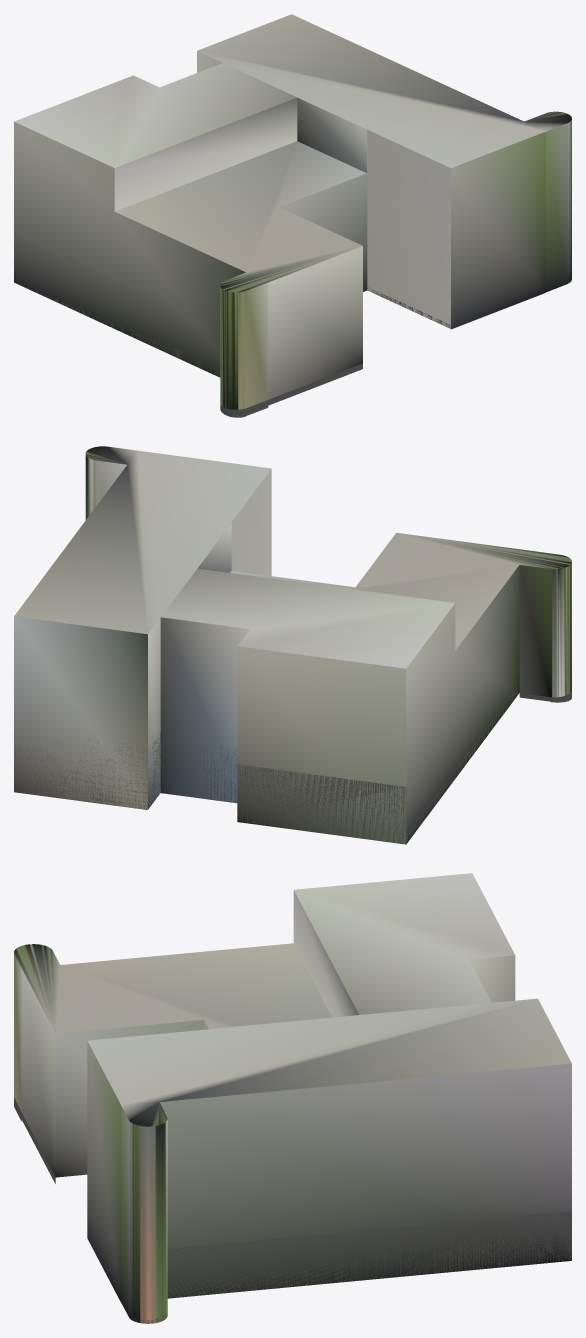
3 views of the same model, one above another, from view 1: azimuth 30°, elevation 25°; view 2: azimuth 150°, elevation 25°; view 3: azimuth 270°, elevation 25° (orthographic). The views are drawn at different scales.
Visible parts, largest first — view 1: c_m15_m08; view 2: c_m15_m08; view 3: c_m15_m08.
Part boxes in pixels (x1=…): c_m15_m08: x1=14, y1=14, x2=571, y2=417; c_m15_m08: x1=14, y1=446, x2=571, y2=844; c_m15_m08: x1=14, y1=873, x2=571, y2=1323.
Bounding box in the file's own units: 43.24 × 16.5 × 40.24.
